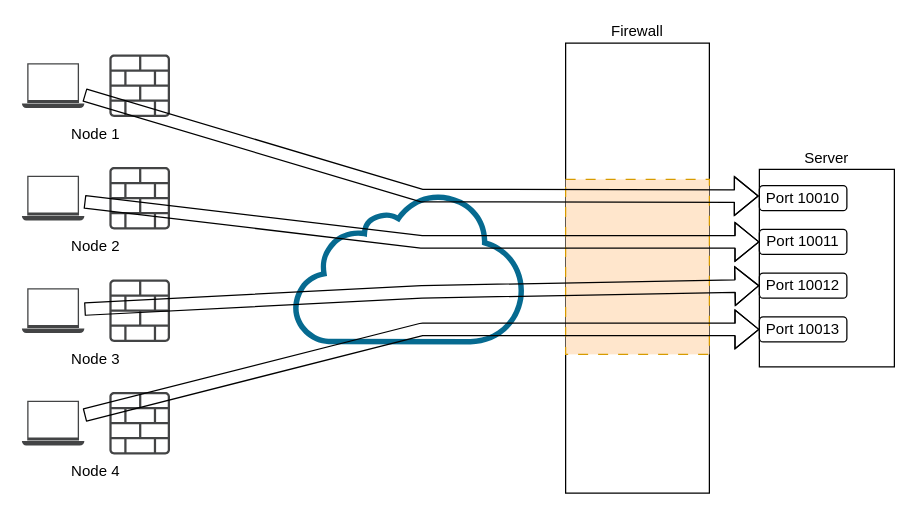
Image size: 916x515. Some labels were removed from this diagram. The shapes that lost their labels are listed below. From the top down, each one's centre as x and y in pixels, then its label:
At point 409,269: "Internet".
At point 636,266: "Port 22".
